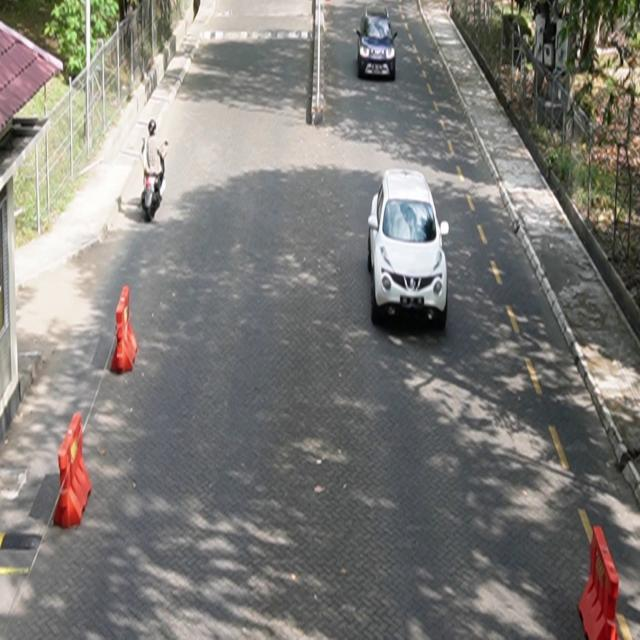car: (368, 167, 450, 330), (356, 5, 399, 82)
